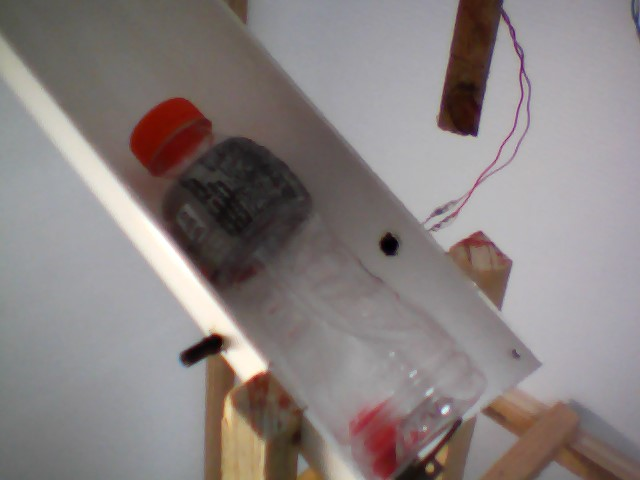plastico: (132, 94, 491, 480)
